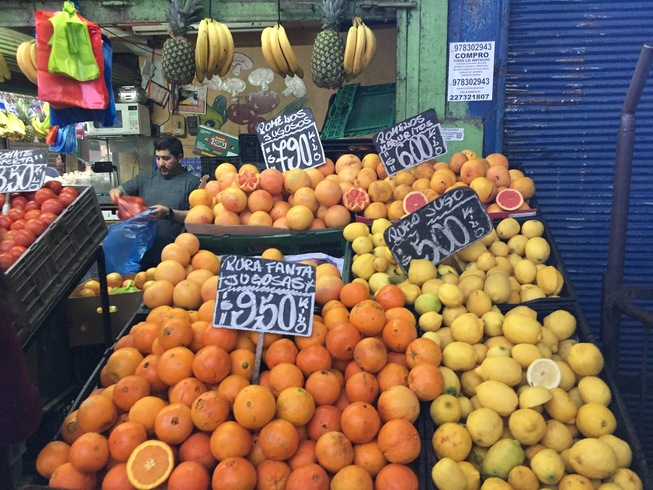precio: (380, 183, 499, 274), (214, 249, 323, 342), (256, 110, 332, 181), (375, 115, 450, 179), (1, 145, 52, 197)
